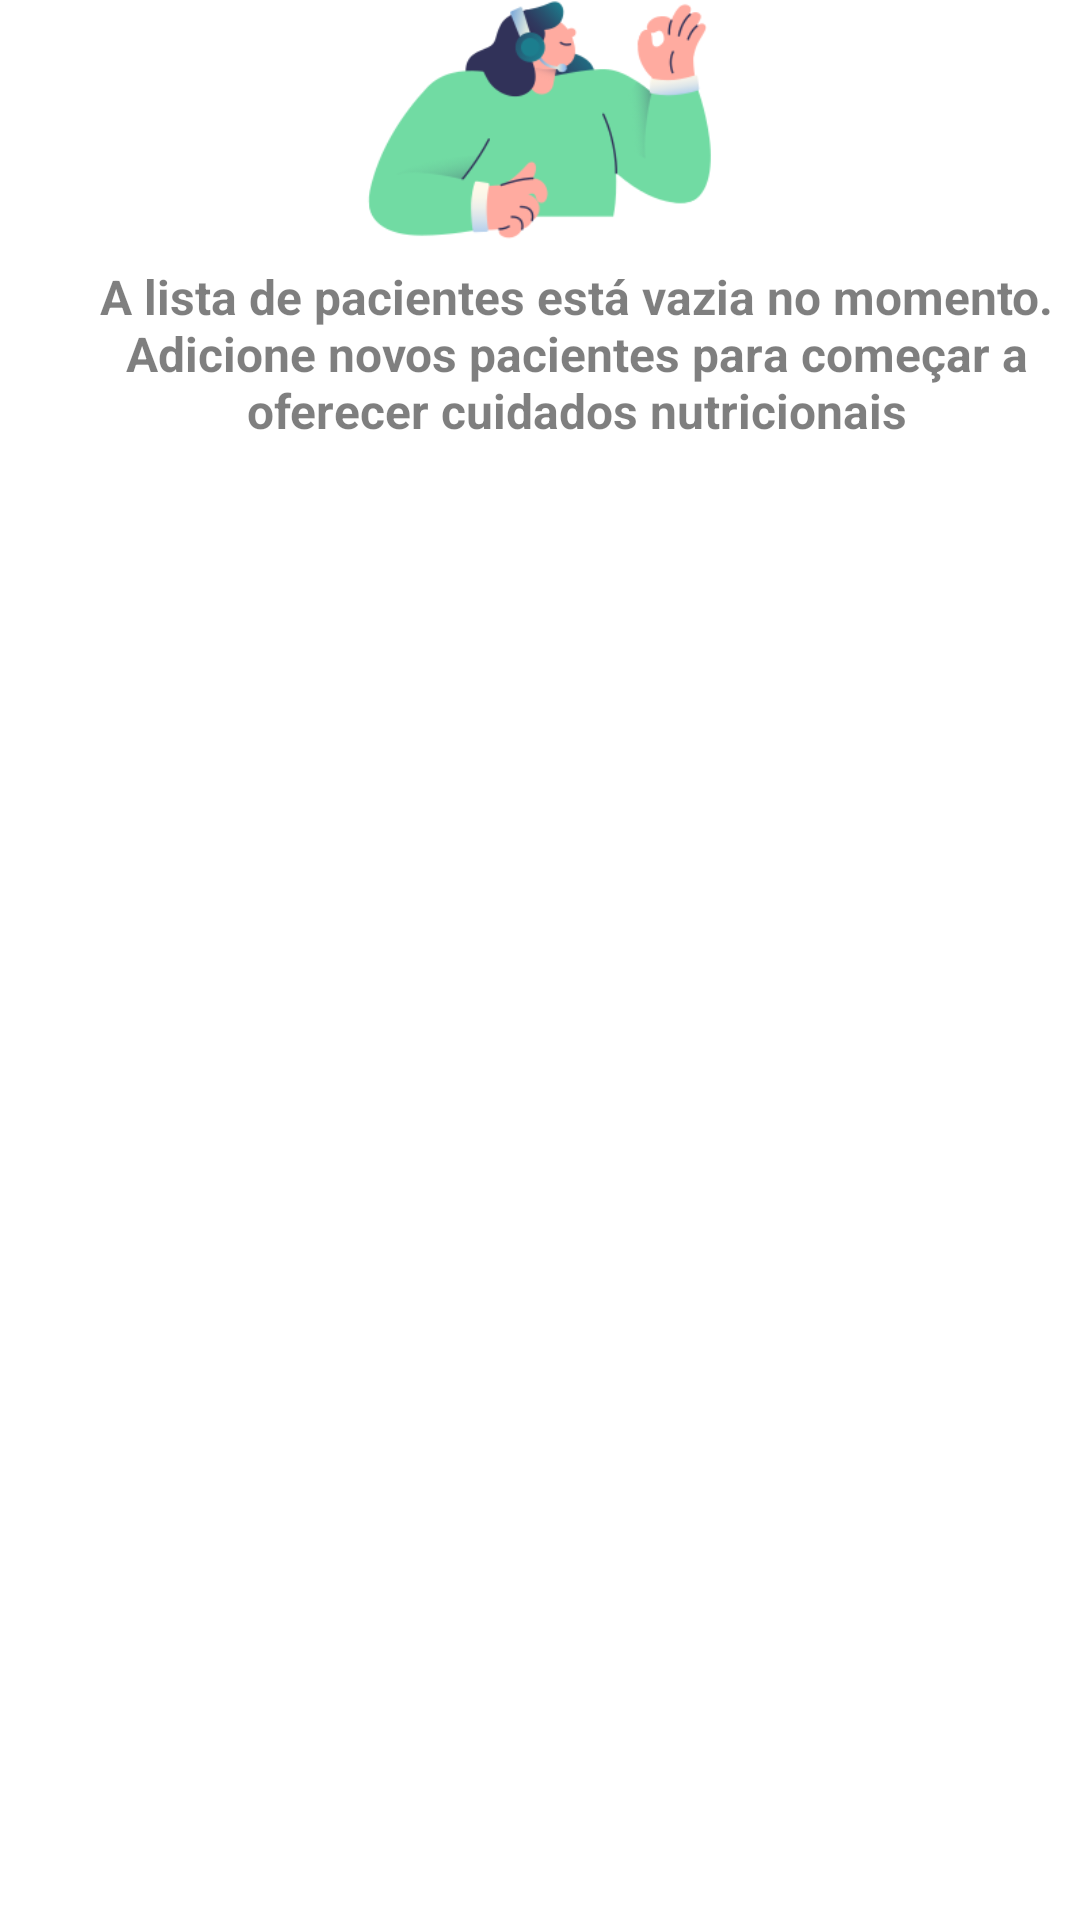

Named icons in this screenshot (1080x1920) and their centers, (x=x, y=y):
client: (x=539, y=119)
